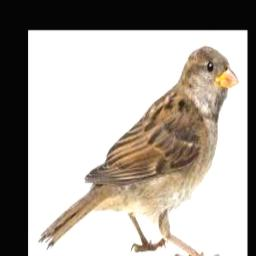Sparrow: (38, 46, 239, 256)
